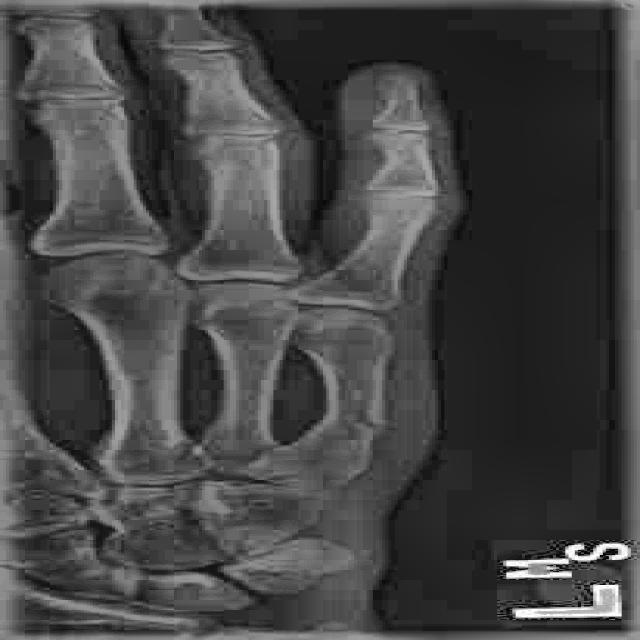fingers positive: (284, 371, 401, 474)
